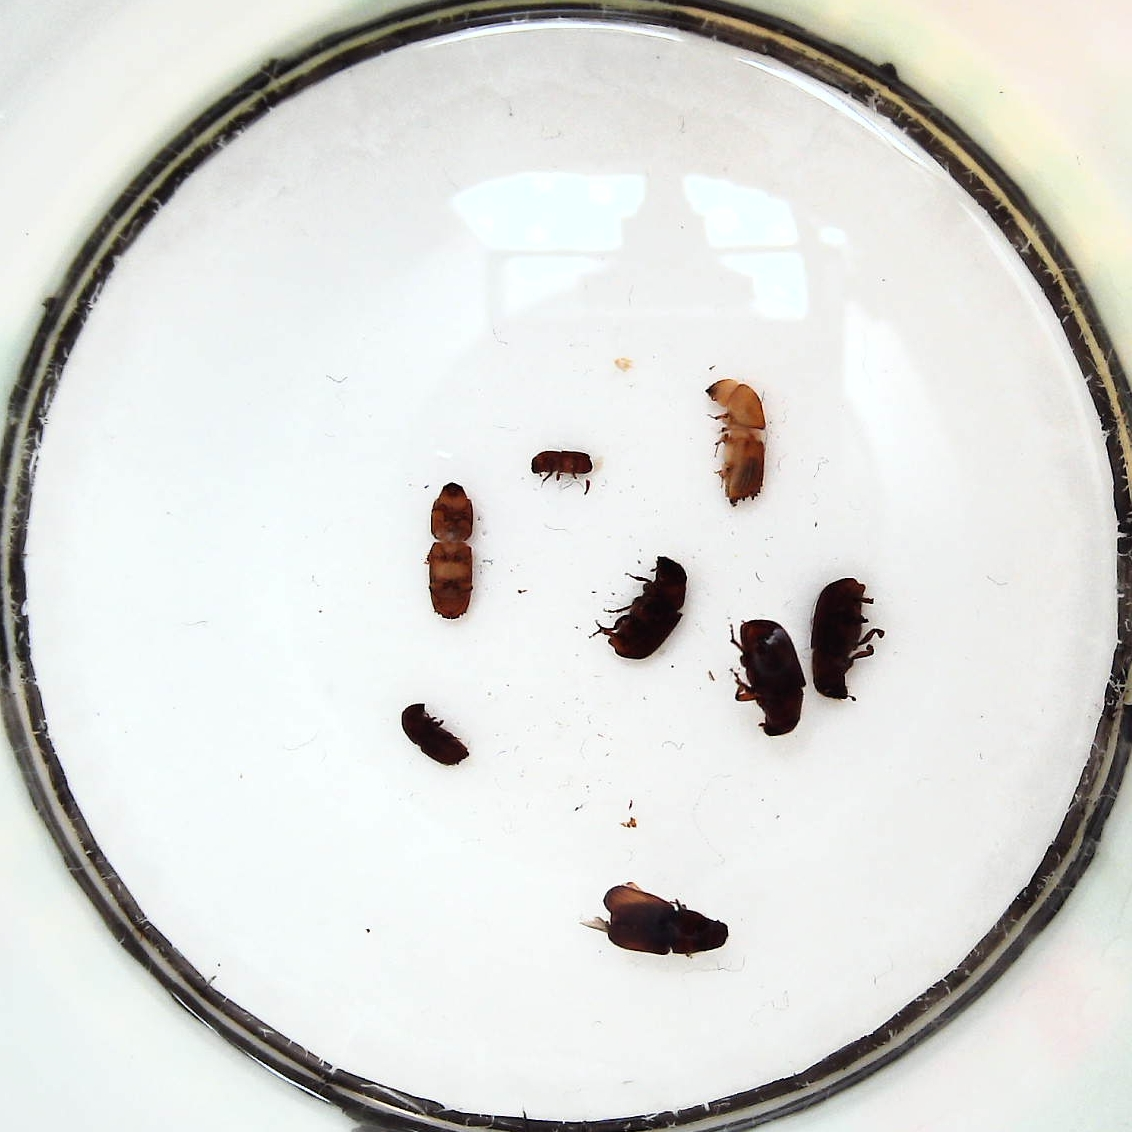Boerner: (705, 369, 766, 506), (423, 480, 477, 623)
Leconte: (598, 878, 731, 955), (602, 551, 690, 662), (729, 618, 805, 737), (810, 577, 877, 701)
Linnaeus: (398, 701, 472, 769)
acuminatus: (526, 446, 597, 482)
